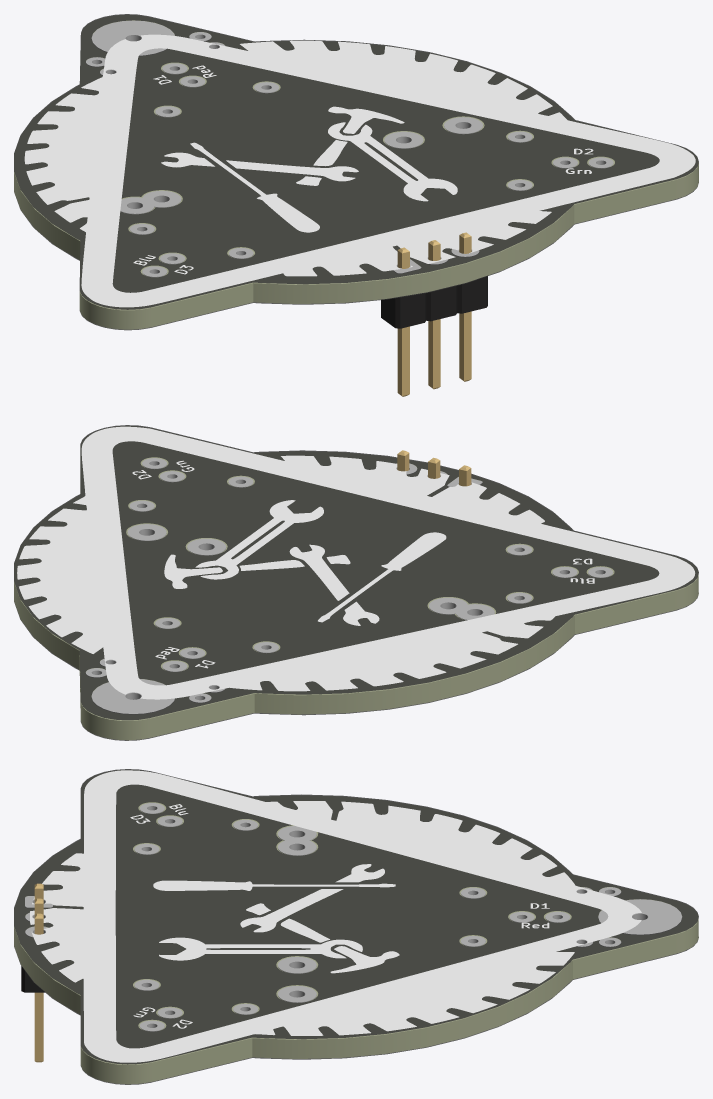
The model's file is map4.glb.
3 views of the same model, one above another, from view 1: azimuth 30°, elevation 25°; view 2: azimuth 150°, elevation 25°; view 3: azimuth 270°, elevation 25° (orthographic).
Parts seen in each view (by area): view 1: =>[0:1:1:3], =>[0:1:1:8]; view 2: =>[0:1:1:3], =>[0:1:1:8]; view 3: =>[0:1:1:3], =>[0:1:1:8].
Part boxes in pixels (<box>): =>[0:1:1:3]: <box>14,15,698,396</box>; =>[0:1:1:8]: <box>14,14,698,330</box>; =>[0:1:1:3]: <box>14,426,698,740</box>; =>[0:1:1:8]: <box>14,425,698,740</box>; =>[0:1:1:3]: <box>14,770,698,1084</box>; =>[0:1:1:8]: <box>14,769,698,1084</box>.
Size of the model in its own units: 0.0498 by 0.0115 by 0.0488.
Materials: 2 (2 with a texture image).
